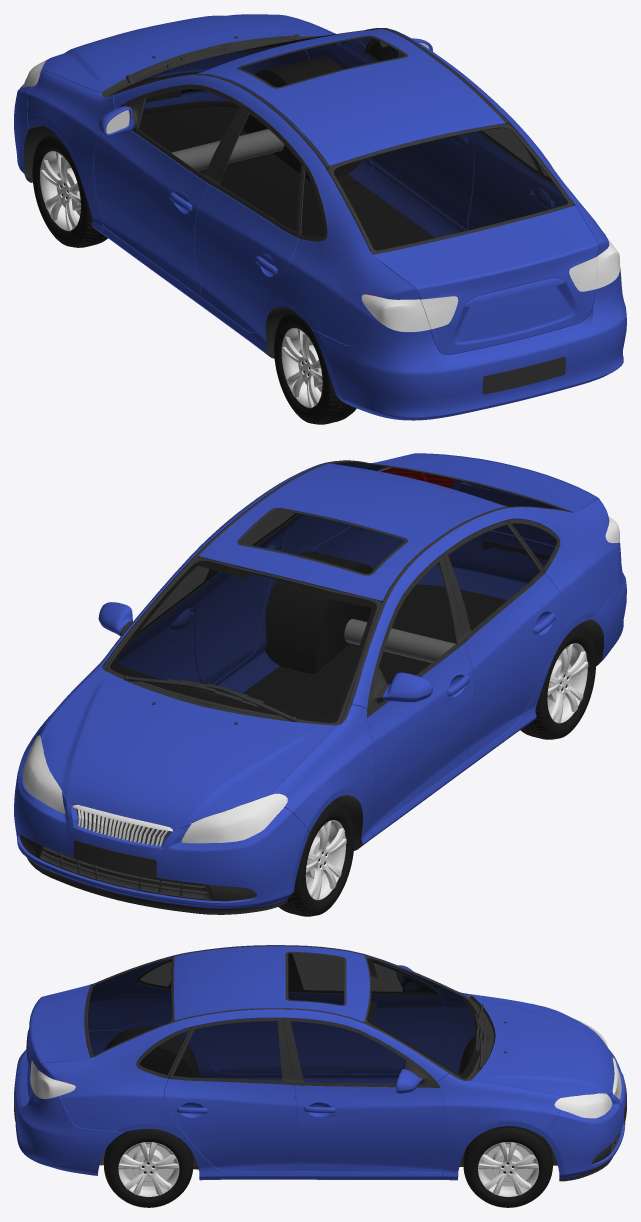
The model's file is Sedan.fbx.
3 views of the same model, one above another, from view 1: azimuth 30°, elevation 25°; view 2: azimuth 150°, elevation 25°; view 3: azimuth 270°, elevation 25° (orthographic). The views are drawn at different scales.
Visible parts, largest first — view 1: ELANTRA_BODY, ELANTRA_BODY.008, Wheels, Plane.005, ELANTRA_BODY.001, Plane.002, Plane.008, Cylinder.002; view 2: ELANTRA_BODY, ELANTRA_BODY.008, Wheels, Plane.005, ELANTRA_BODY.002, Plane.004, Plane.007, ELANTRA_BODY.005, Cylinder.003; view 3: ELANTRA_BODY, ELANTRA_BODY.008, Wheels, Plane.005, ELANTRA_BODY.002, ELANTRA_BODY.001, Plane.004, Plane.002, ELANTRA_BODY.007.
Boxes of the visible parts, x1,y1,x2,y2 form: ELANTRA_BODY: (14,14,626,420); ELANTRA_BODY.008: (112,29,567,253); Wheels: (32,129,356,424); Plane.005: (237,35,407,88); ELANTRA_BODY.001: (361,236,619,331); Plane.002: (328,124,573,253); Plane.008: (482,356,565,394); Cylinder.002: (126,42,263,83); ELANTRA_BODY: (14,453,626,914); ELANTRA_BODY.008: (110,462,563,722); Wheels: (126,619,595,916); Plane.005: (237,508,407,575); ELANTRA_BODY.002: (22,735,287,843); Plane.004: (105,557,381,725); Plane.007: (74,840,156,878); ELANTRA_BODY.005: (77,805,169,845); Cylinder.003: (124,675,258,708); ELANTRA_BODY: (14,945,626,1181); ELANTRA_BODY.008: (87,953,483,1083); Wheels: (104,1126,552,1207); Plane.005: (285,952,346,1005); ELANTRA_BODY.002: (554,1018,612,1118); ELANTRA_BODY.001: (30,1060,75,1098); Plane.004: (364,956,486,1080); Plane.002: (85,956,173,1057); ELANTRA_BODY.007: (177,1106,335,1113).
Size of the model in its own units: 210 by 153 by 454.
